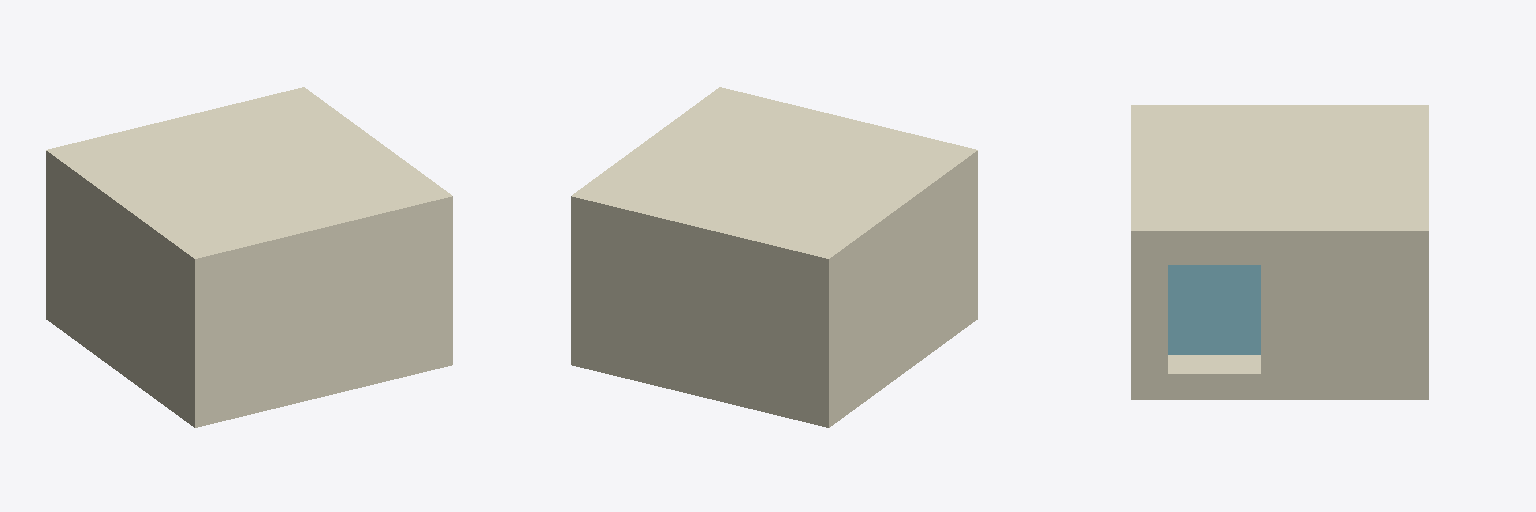
Rendered from building_054.obj.
3 views of the same model, side by side, from view 1: azimuth 30°, elevation 25°; view 2: azimuth 150°, elevation 25°; view 3: azimuth 270°, elevation 25° (orthographic).
Visible parts, largest first — view 1: building_054; view 2: building_054; view 3: building_054.
Part boxes in pixels (bbox=[...]): building_054: bbox=[46, 87, 452, 427]; building_054: bbox=[571, 87, 977, 427]; building_054: bbox=[1131, 105, 1428, 399].
Bounding box in the file's own units: 1.05 × 0.625 × 1.